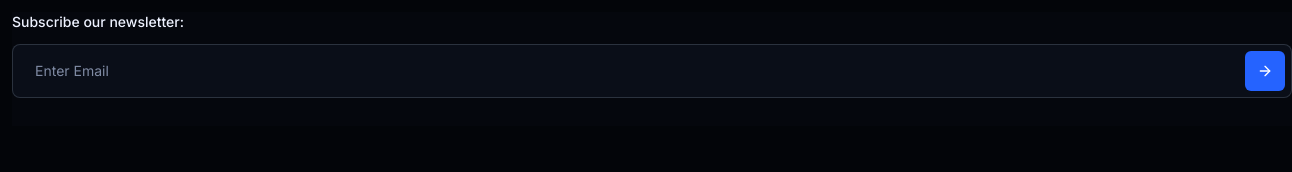
NewsletterForm › validates the email before posting
Type "not-an-email" into the field labelled "Subscribe our newsletter:" at (628, 71), box x1=19 y1=61 x2=1237 y2=81
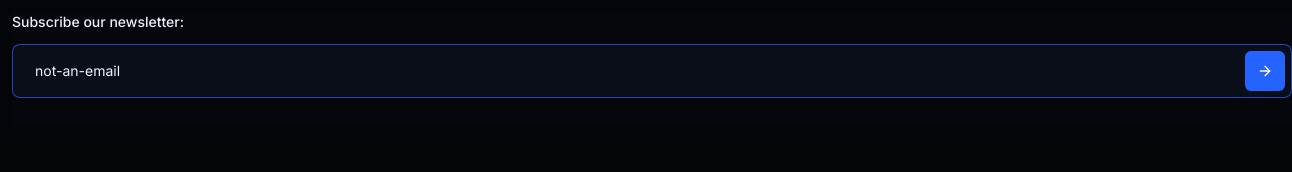
Click the button named "subscribe" at (1265, 71), box x1=1245 y1=51 x2=1285 y2=91
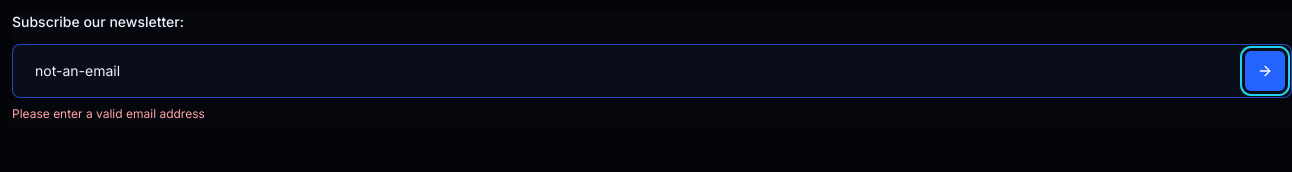
expect the message shows "valid email": met, box x1=12 y1=106 x2=205 y2=121
